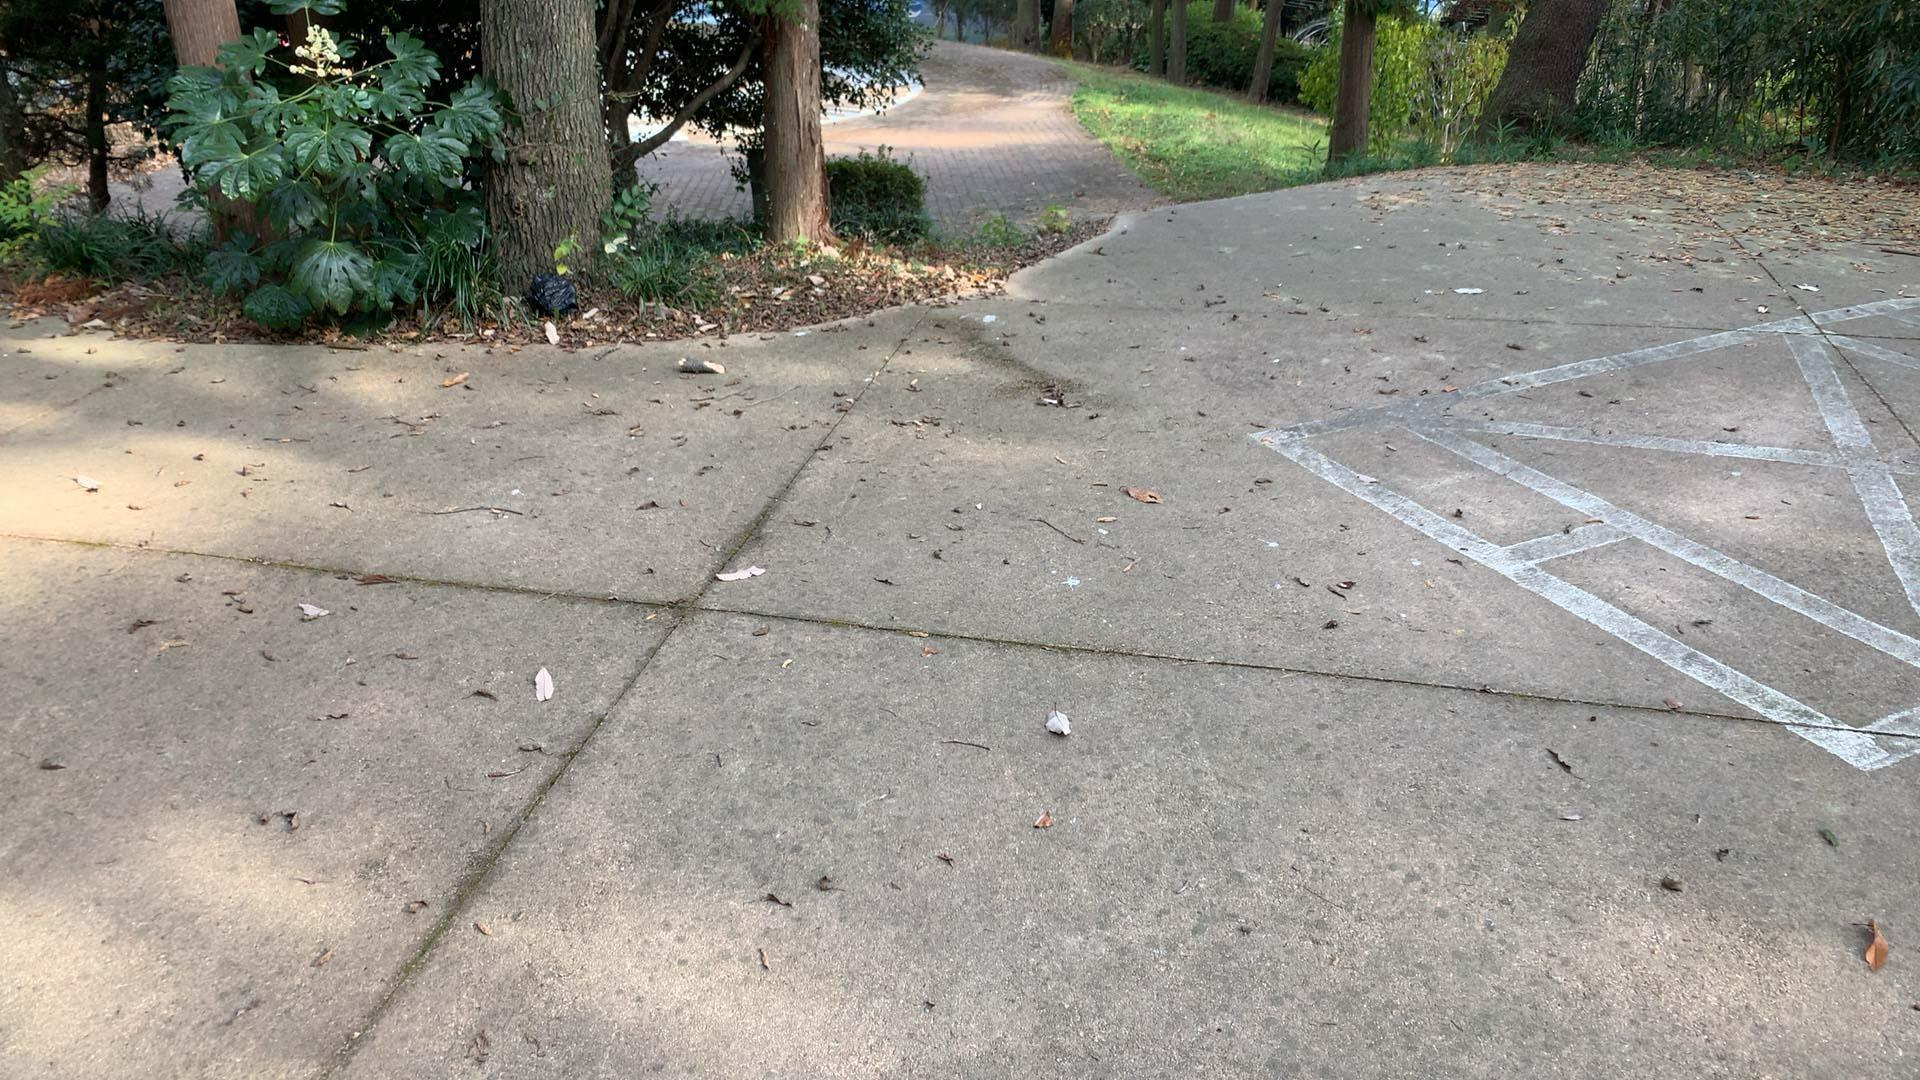black_bag: (520, 270, 584, 323)
